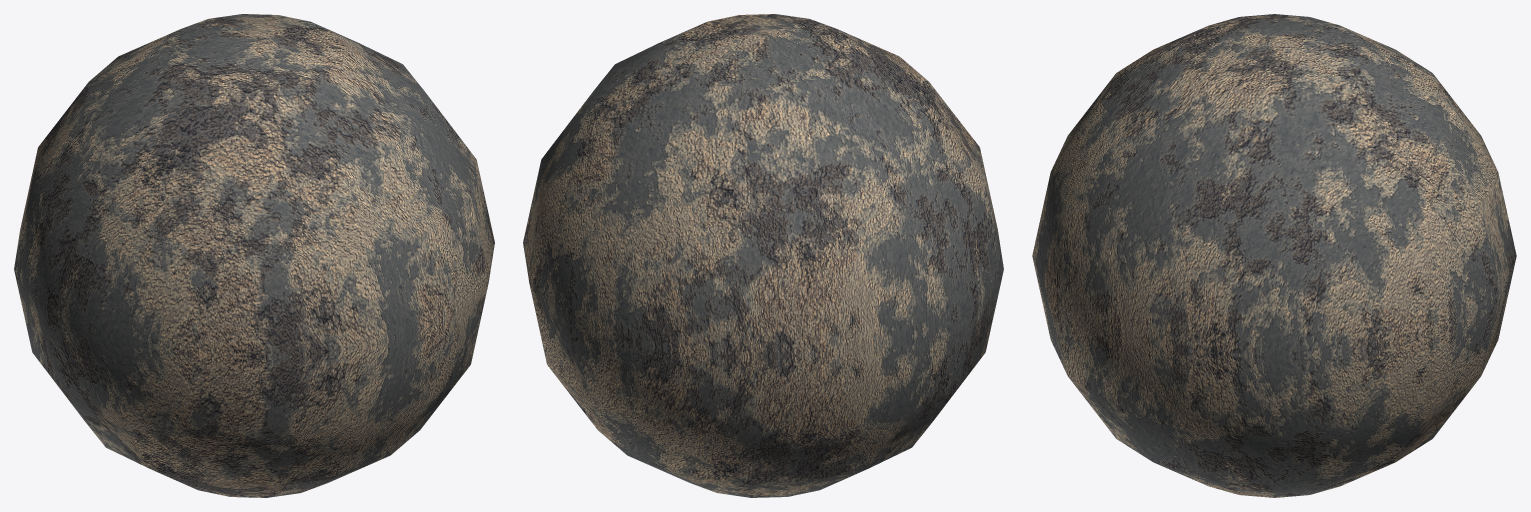
The model's file is star_02.obj.
3 renders of one model, left to right at view 1: azimuth 30°, elevation 25°; view 2: azimuth 150°, elevation 25°; view 3: azimuth 270°, elevation 25°, orthographic.
Visible parts, largest first — view 1: star_02; view 2: star_02; view 3: star_02.
Boxes of the visible parts, x1,y1,x2,y2 form: star_02: (14,14,494,497); star_02: (523,14,1003,497); star_02: (1032,14,1516,497).
Size of the model in its own units: 1820 by 1820 by 1820.
